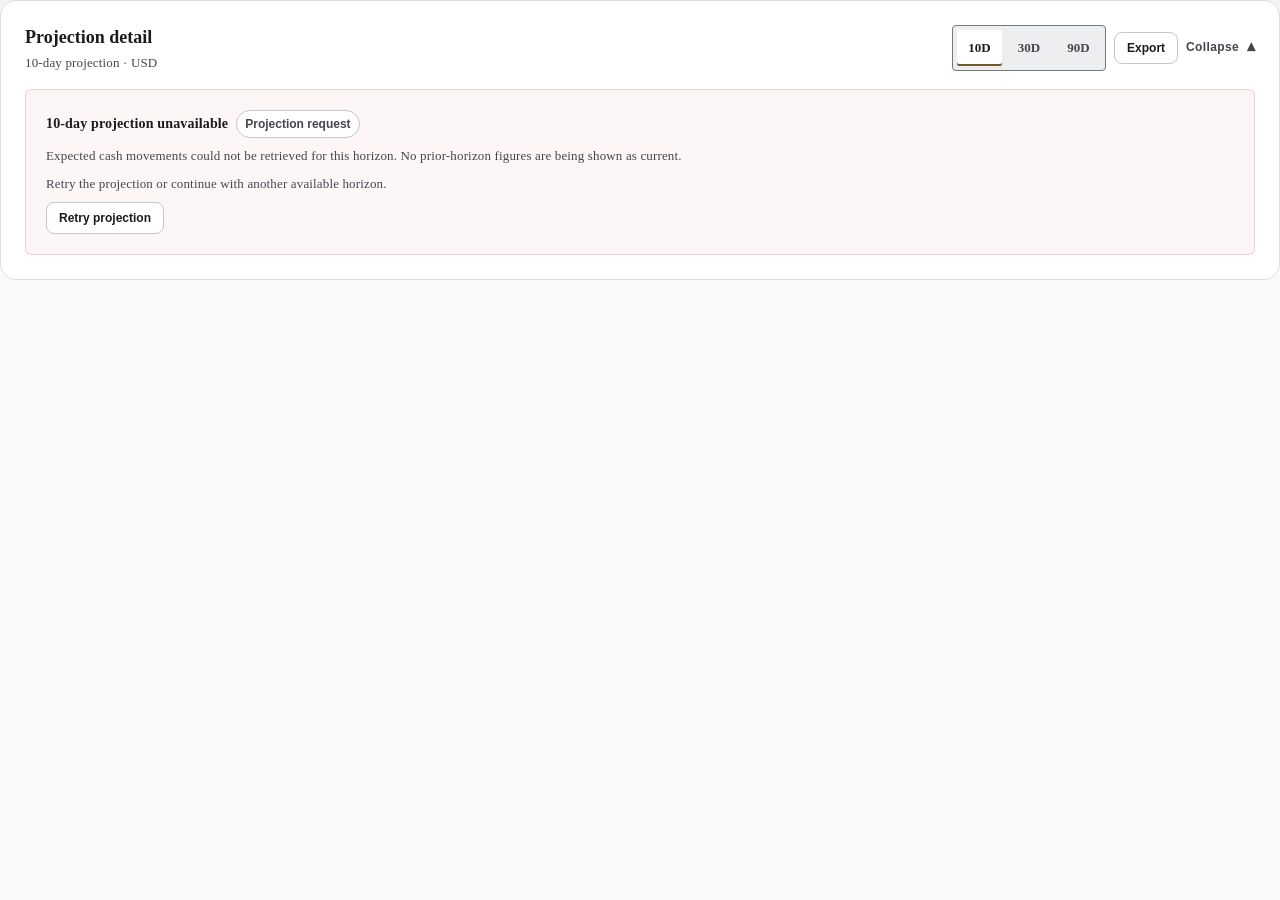
it: PortfolioProjectedCashflowModule › forces a fresh request when retrying an unavailable envelope
This screenshot has width=1280, height=900.
Expected: the heading "10-day projection unavailable" is shown, [46,113,228,135]
Click the button "Retry projection" at (105, 218), box [46,202,164,234]
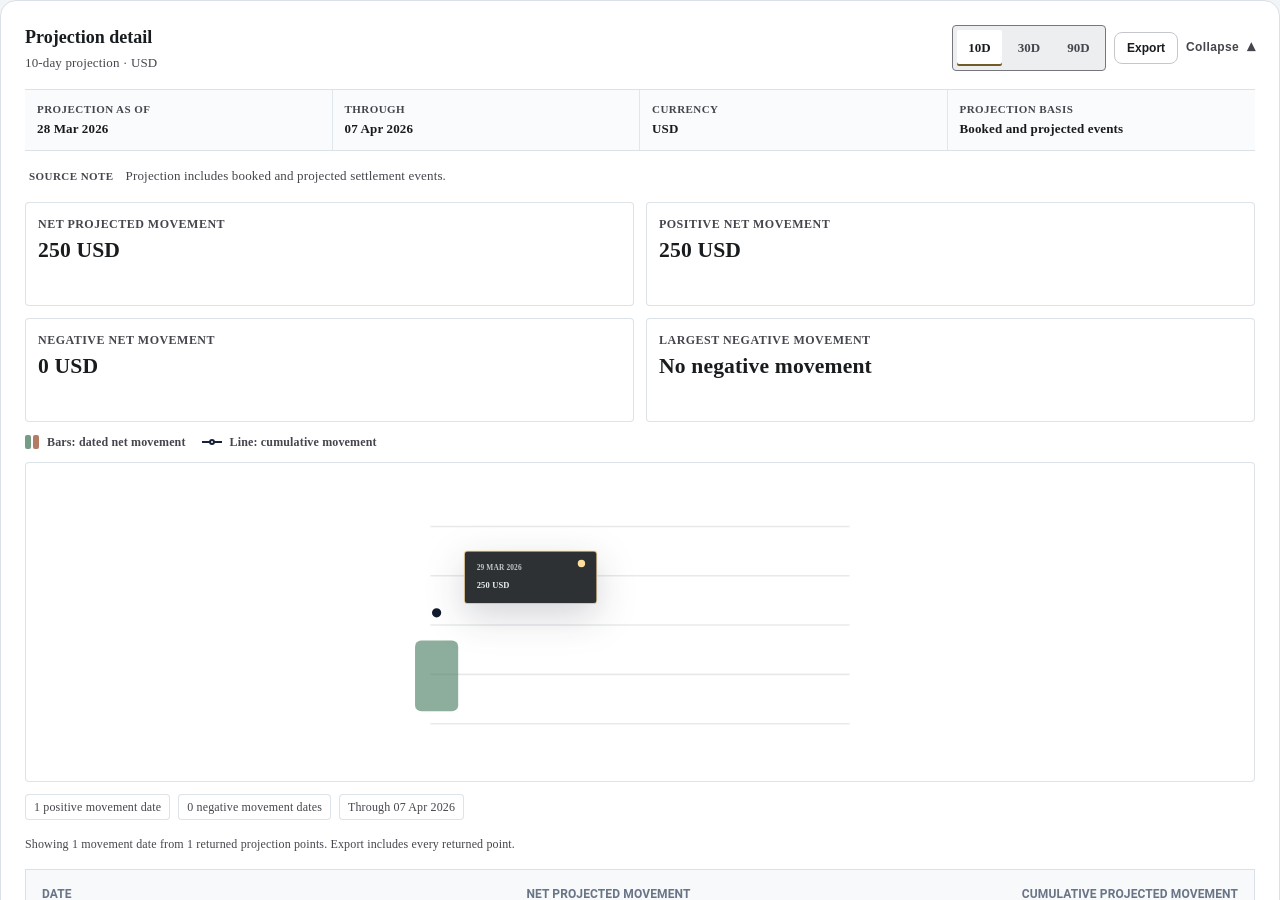
Now the element named "Projected cash movement summary" is shown, box [25,202,1255,422]
